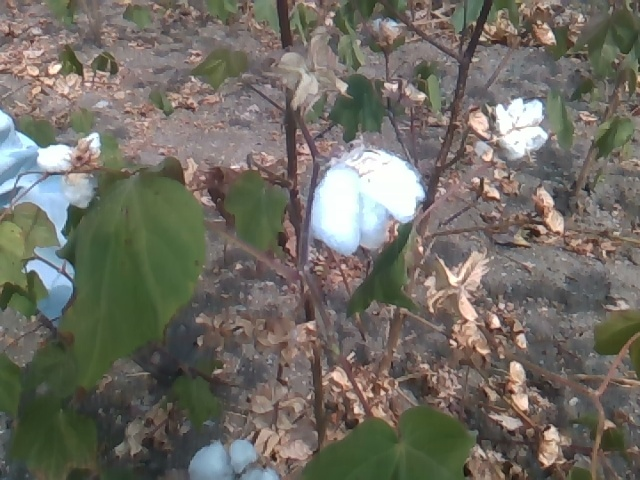cotton: (314, 151, 422, 252), (35, 140, 100, 206), (190, 444, 278, 480), (493, 101, 546, 158)
